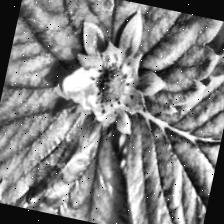Blossom Blight: (81, 43, 145, 122)
